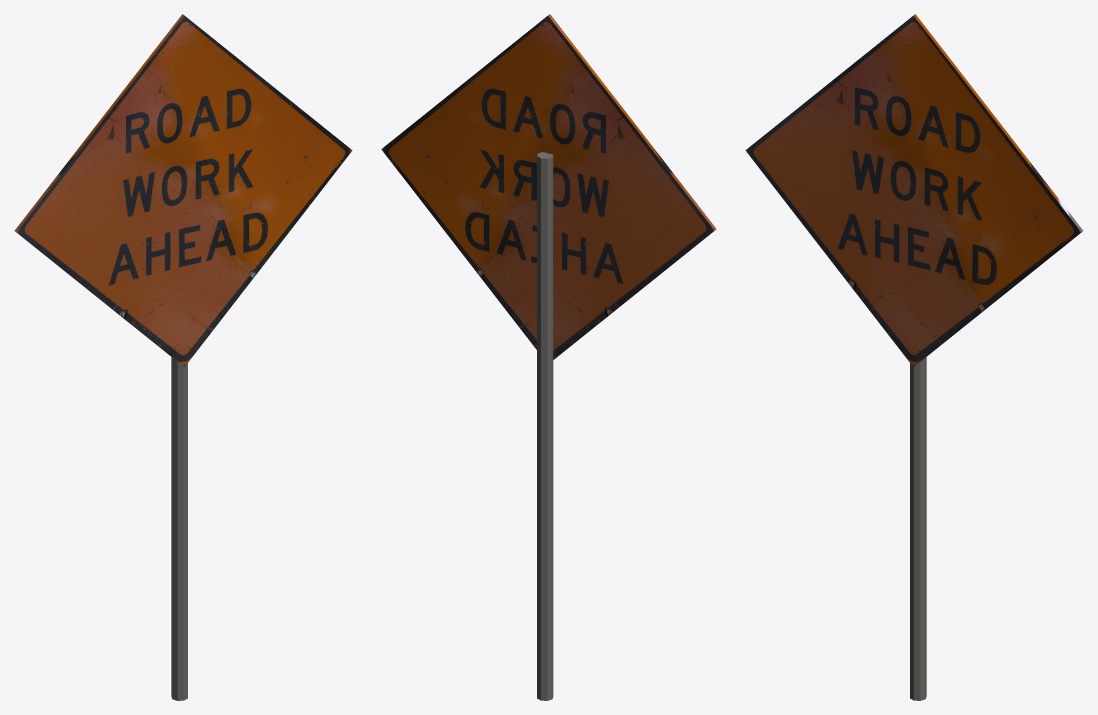
The model's file is trafficsign3.fbx.
The picture shows the model from 3 angles, left to right: view 1: azimuth 30°, elevation 25°; view 2: azimuth 150°, elevation 25°; view 3: azimuth 330°, elevation 25°; orthographic projection.
Parts seen in each view (by area): view 1: sign; view 2: sign; view 3: sign.
Boxes of the visible parts, x1,y1,x2,y2 form: sign: [14, 14, 352, 700]; sign: [381, 14, 716, 700]; sign: [745, 14, 1083, 700].
Size of the model in its own units: 283 by 551 by 13.24.
2 materials, 2 textured.
